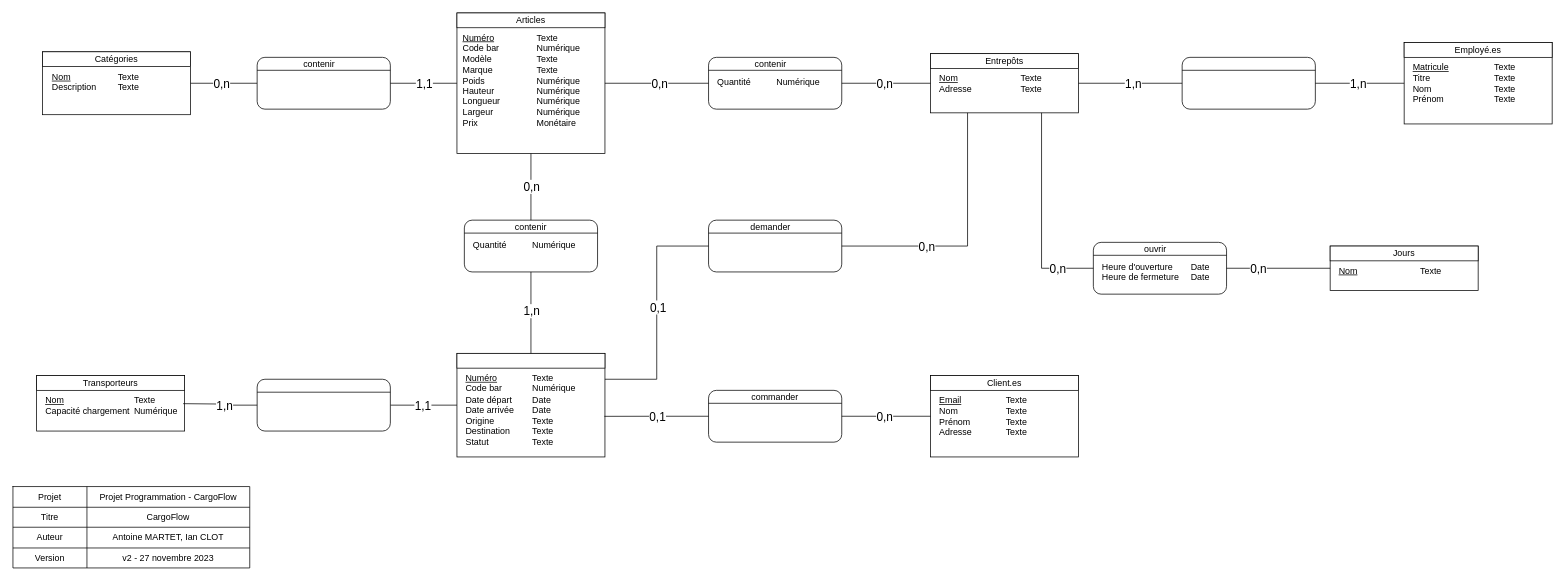
Image size: 1565x581. Some labels were removed from this diagram. The centre of each missing label's shape, as x and y in pixels:
Livraisons: [530,360]
transporter: [323,405]
travailler: [1248,83]
